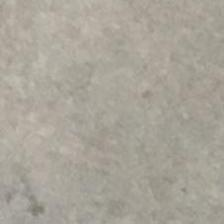Non_Crack: (13, 18, 210, 224)
